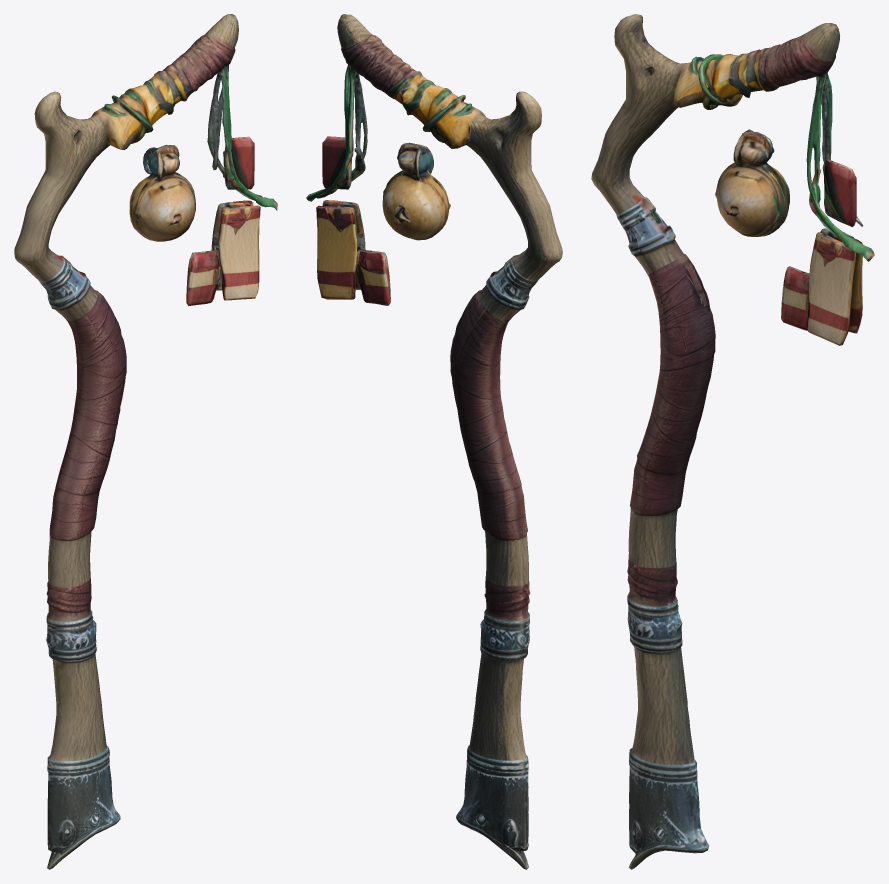
File: Staff.fbx
The picture shows the model from 3 angles, left to right: view 1: azimuth 30°, elevation 25°; view 2: azimuth 150°, elevation 25°; view 3: azimuth 330°, elevation 25°; orthographic projection. The views are drawn at different scales.
Parts seen in each view (by area): view 1: texture_mapping; view 2: texture_mapping; view 3: texture_mapping.
Boxes of the visible parts, x1=… form: texture_mapping: x1=14, y1=14, x2=277, y2=869; texture_mapping: x1=306, y1=14, x2=562, y2=869; texture_mapping: x1=591, y1=14, x2=874, y2=869.
Bounding box in the file's own units: 0.3351 × 0.0767 × 1.
Materials: 1 (1 with a texture image).
